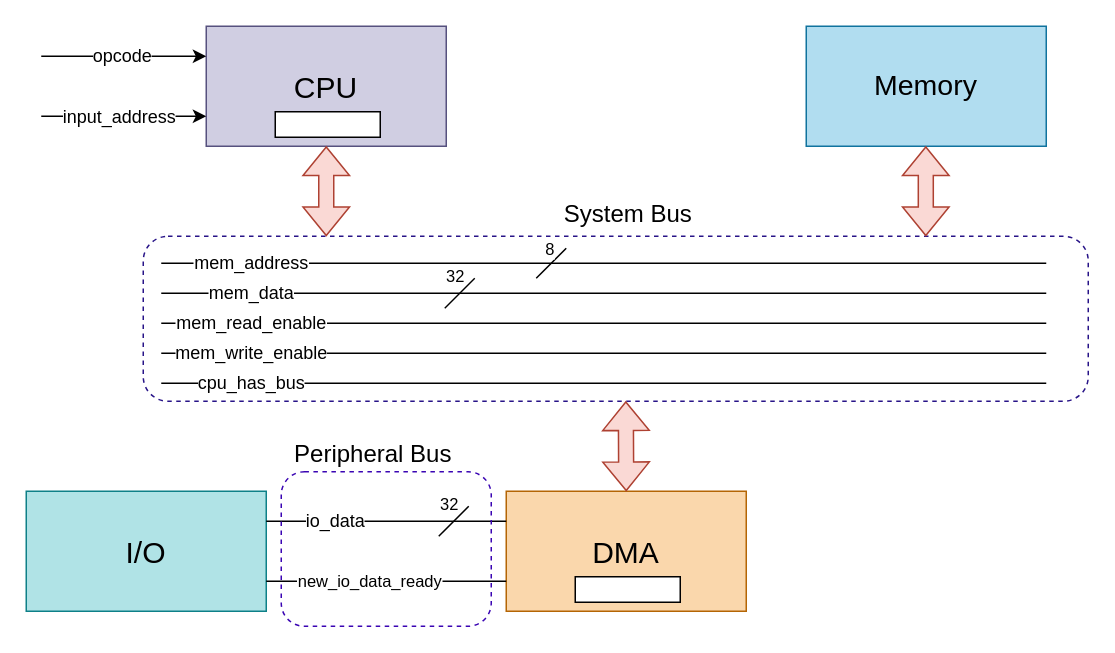
The diagram is 1115 pixels wide and 653 high, and some of its shapes have lost their labels. Each missing label, with the box of its shape:
buffer: (574, 575, 680, 602)
register: (274, 110, 380, 137)
